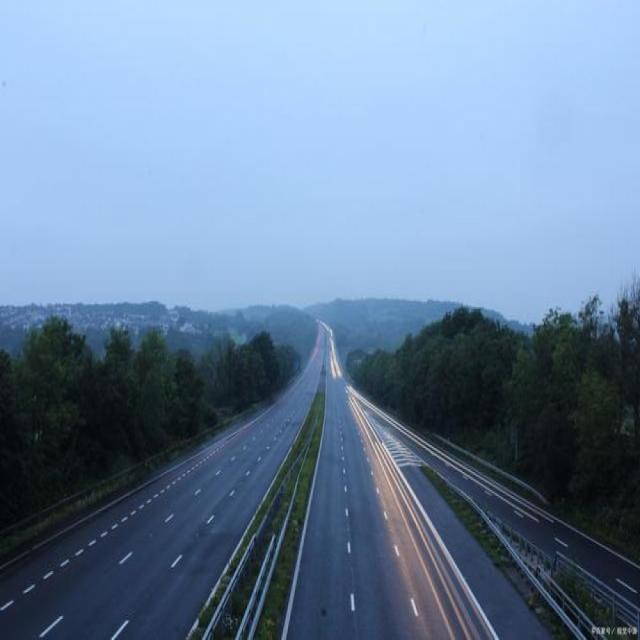point: (297, 301, 352, 372)
